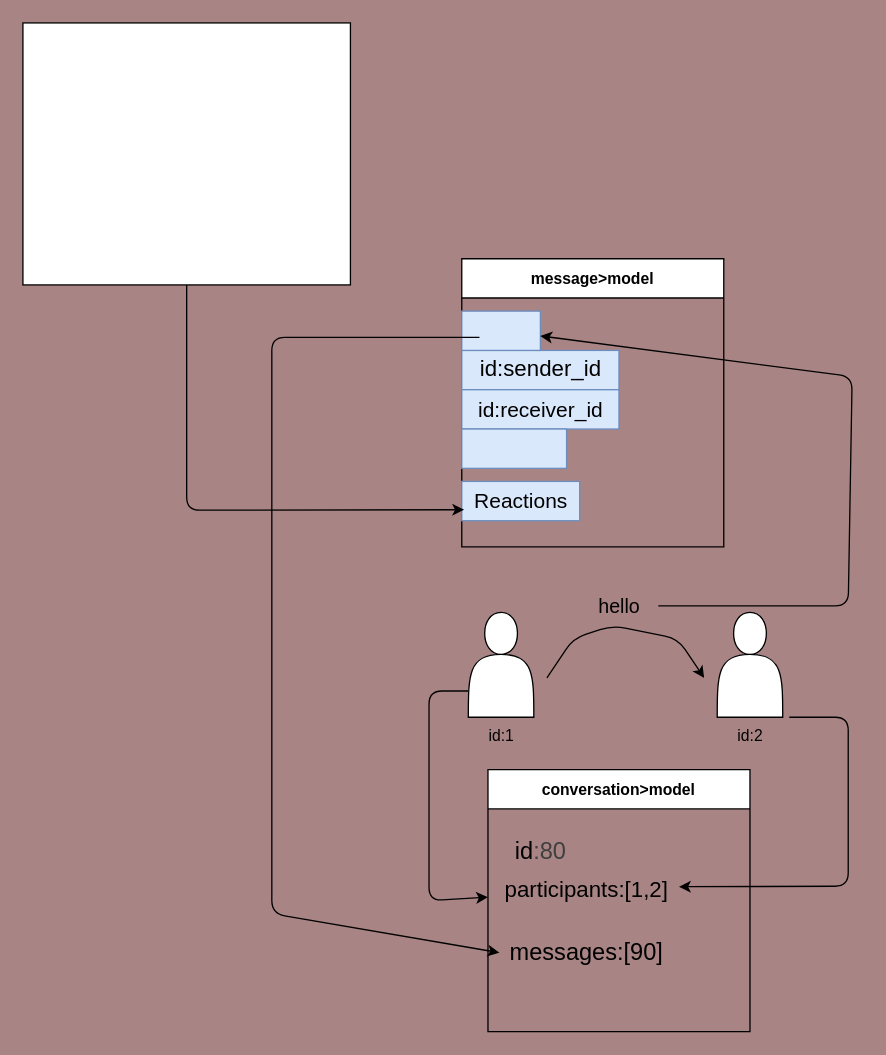
Some shapes in this 886 by 1055 pixel diagram are drawn without their labels. The shapes that lost their labels are listed below. From the top down, each one's centre as x and y in pixels, then its label:
pixel 186 153: reaction:[ { emoji: "❤️", users: ["u1", "u2"] }, { emoji: "😂", users: ["u3"] } ]
pixel 500 330: id:90
pixel 513 448: Message
